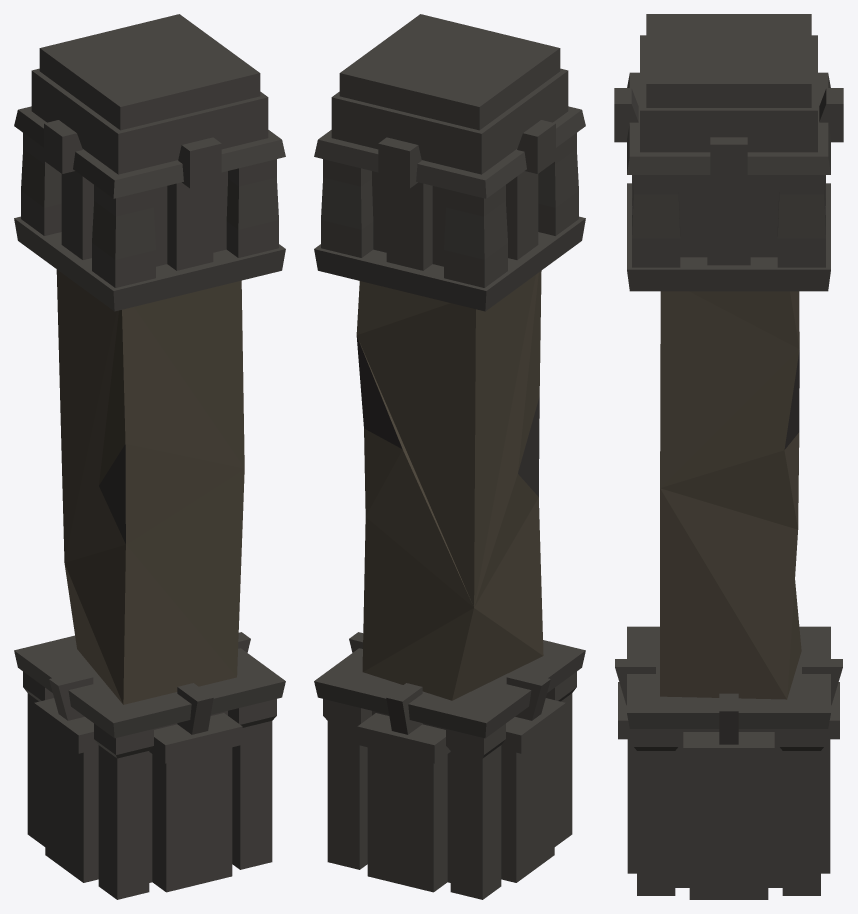
File: Pillar_2B_LOD.fbx
3 views of the same model, side by side, from view 1: azimuth 30°, elevation 25°; view 2: azimuth 150°, elevation 25°; view 3: azimuth 270°, elevation 25° (orthographic). The views are drawn at different scales.
Visible parts, largest first — view 1: polySurface1323; view 2: polySurface1323; view 3: polySurface1323.
Part boxes in pixels (x1,y1,x2,y2): polySurface1323: (14, 14, 285, 899); polySurface1323: (314, 14, 585, 899); polySurface1323: (614, 14, 843, 899).
Size of the model in its own units: 2.05 by 7.96 by 2.05.
